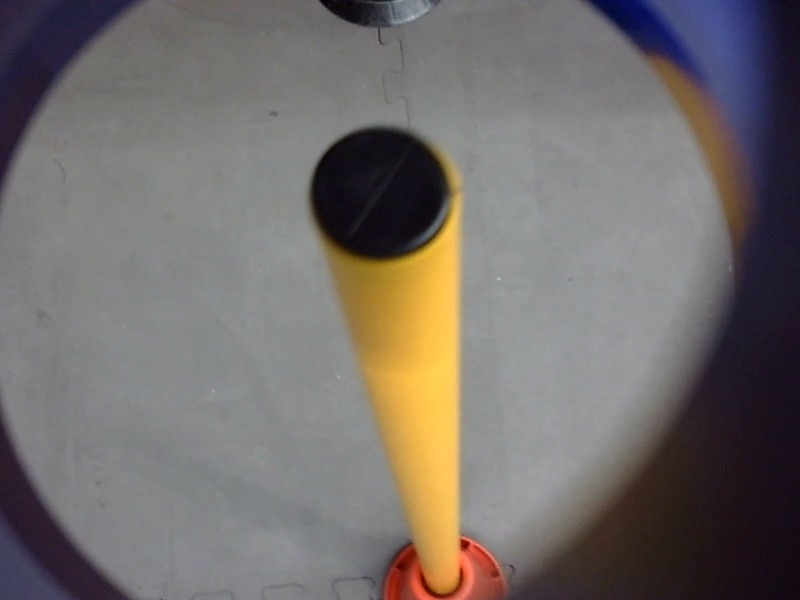tip: (300, 117, 469, 270)
